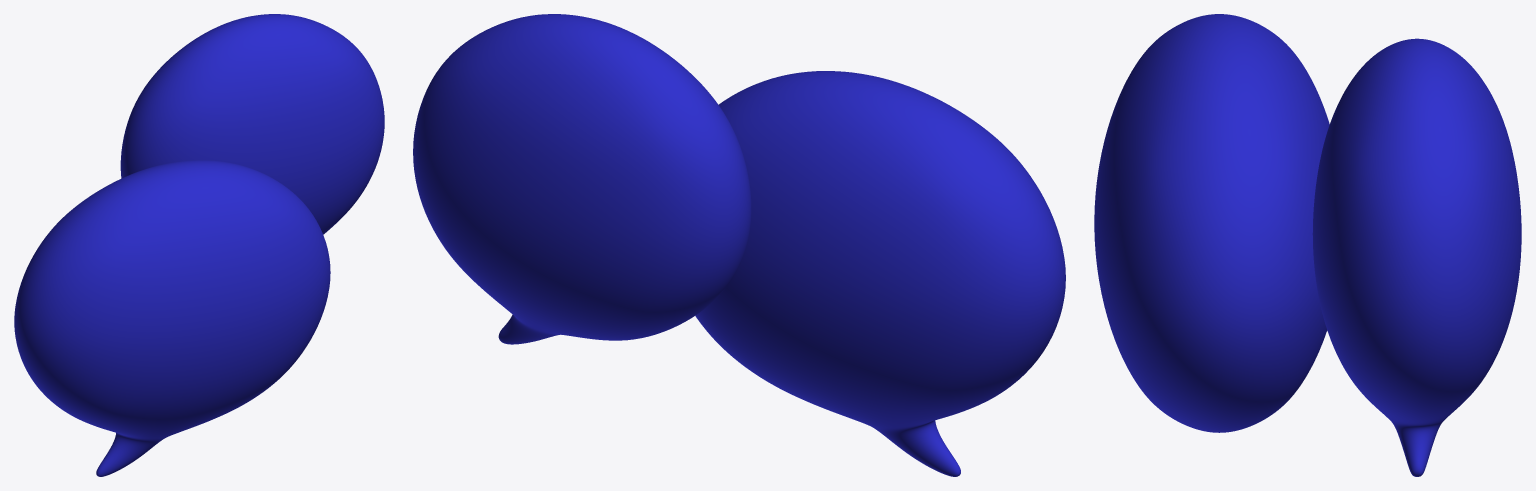
File: trade.glb
3 views of the same model, side by side, from view 1: azimuth 30°, elevation 25°; view 2: azimuth 150°, elevation 25°; view 3: azimuth 270°, elevation 25° (orthographic). The views are drawn at different scales.
Visible parts, largest first — view 1: chat-bubble; view 2: chat-bubble; view 3: chat-bubble.
Boxes of the visible parts, <box> form: chat-bubble: <box>14,14,384,476</box>; chat-bubble: <box>413,14,1065,476</box>; chat-bubble: <box>1094,14,1521,476</box>.
Bounding box in the file's own units: 1.97 × 1.55 × 1.2.
